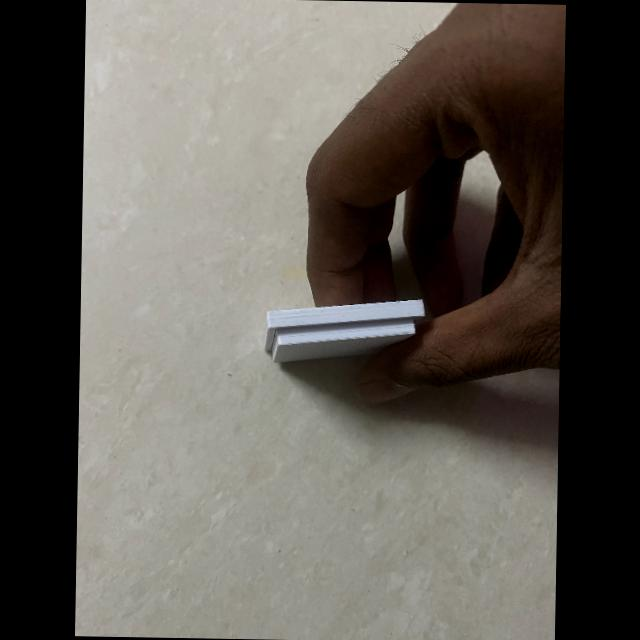RASPBERY PI CAM ENCLOSURE: (264, 296, 426, 365)
